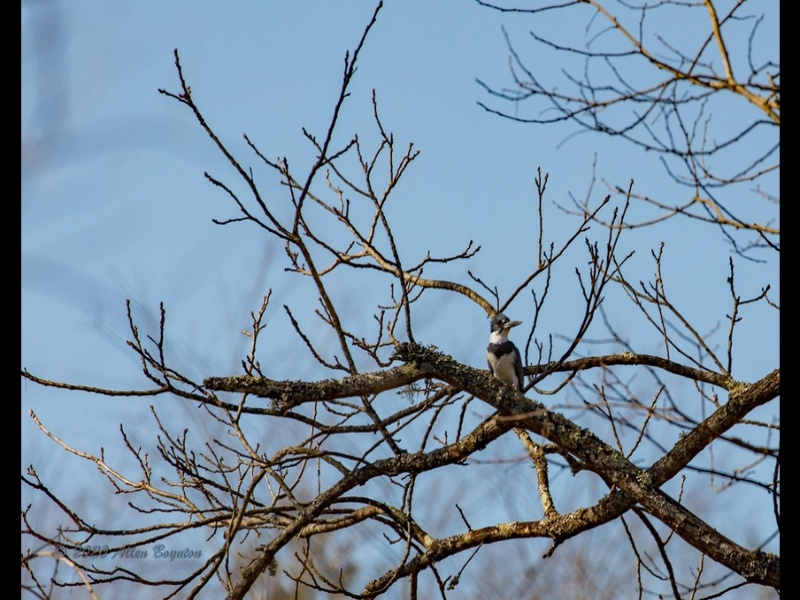kingfisher: (488, 313, 526, 394)
